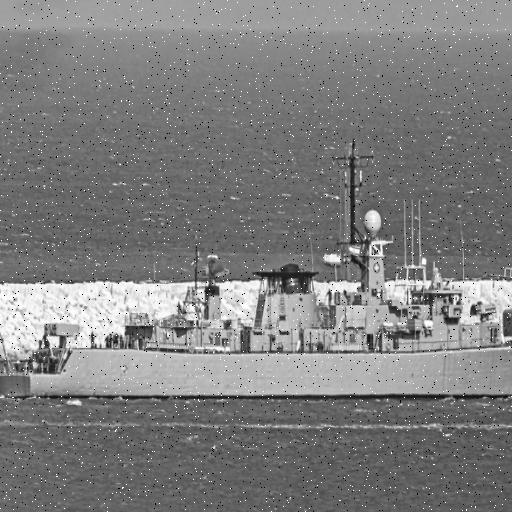Fragata: (1, 138, 512, 404)
